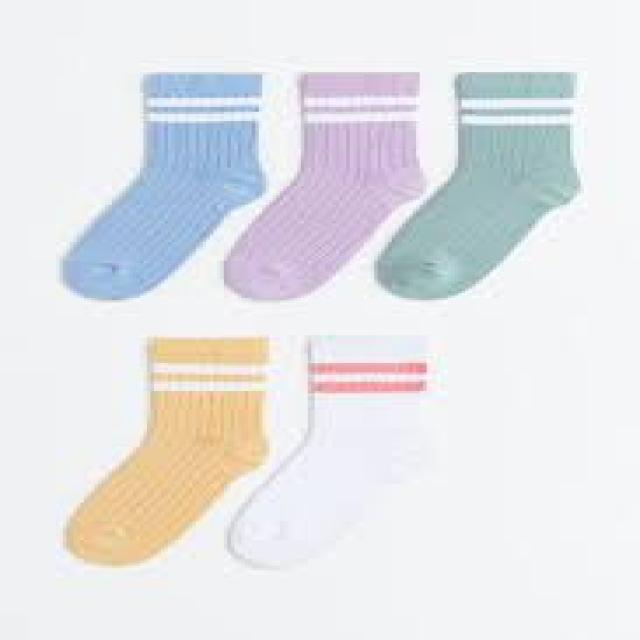sock: (224, 333, 441, 568), (63, 333, 276, 565), (370, 70, 580, 300), (220, 70, 427, 300), (59, 70, 266, 300)
